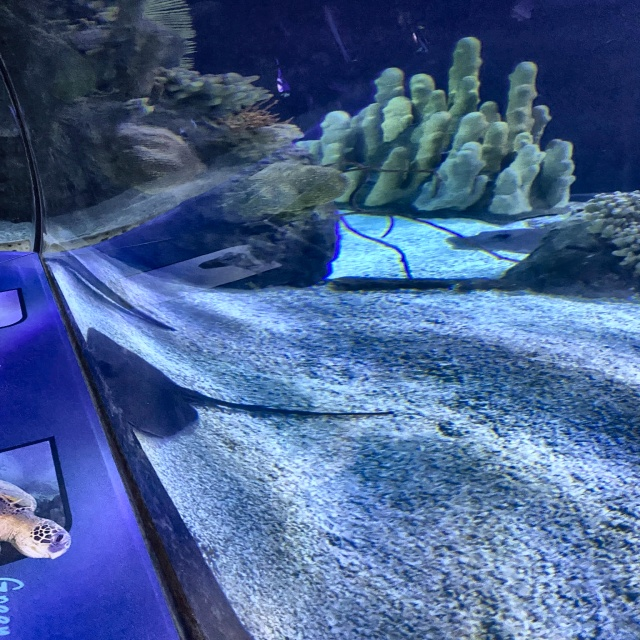stingray: (85, 327, 198, 440), (445, 224, 558, 256)
